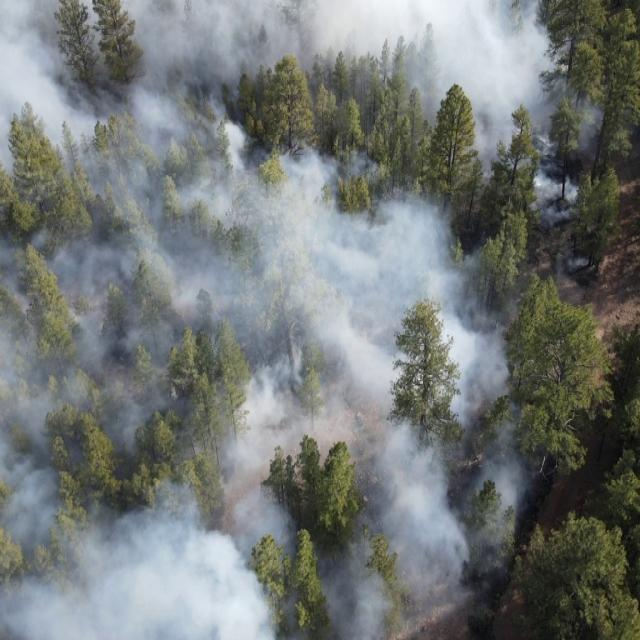smoke: (0, 0, 262, 640), (262, 145, 386, 640), (386, 195, 469, 640), (262, 0, 546, 76), (471, 76, 606, 226), (470, 250, 522, 582), (406, 75, 442, 125), (546, 34, 574, 76), (556, 255, 588, 280), (442, 75, 470, 86)
